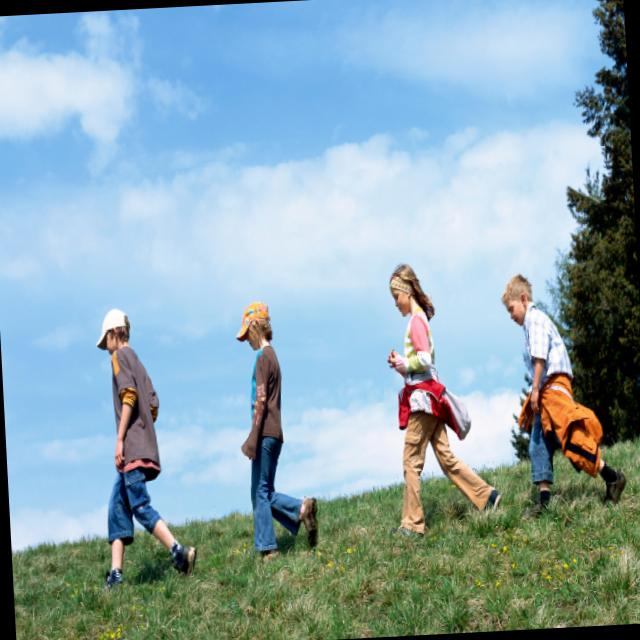Person: (382, 261, 503, 534), (498, 270, 627, 510), (91, 304, 198, 582), (234, 296, 320, 566)
